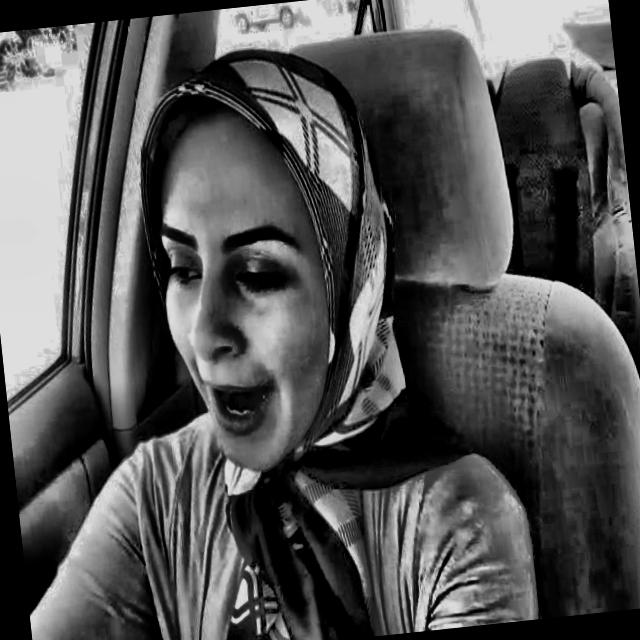open_mouth: (196, 368, 286, 449)
